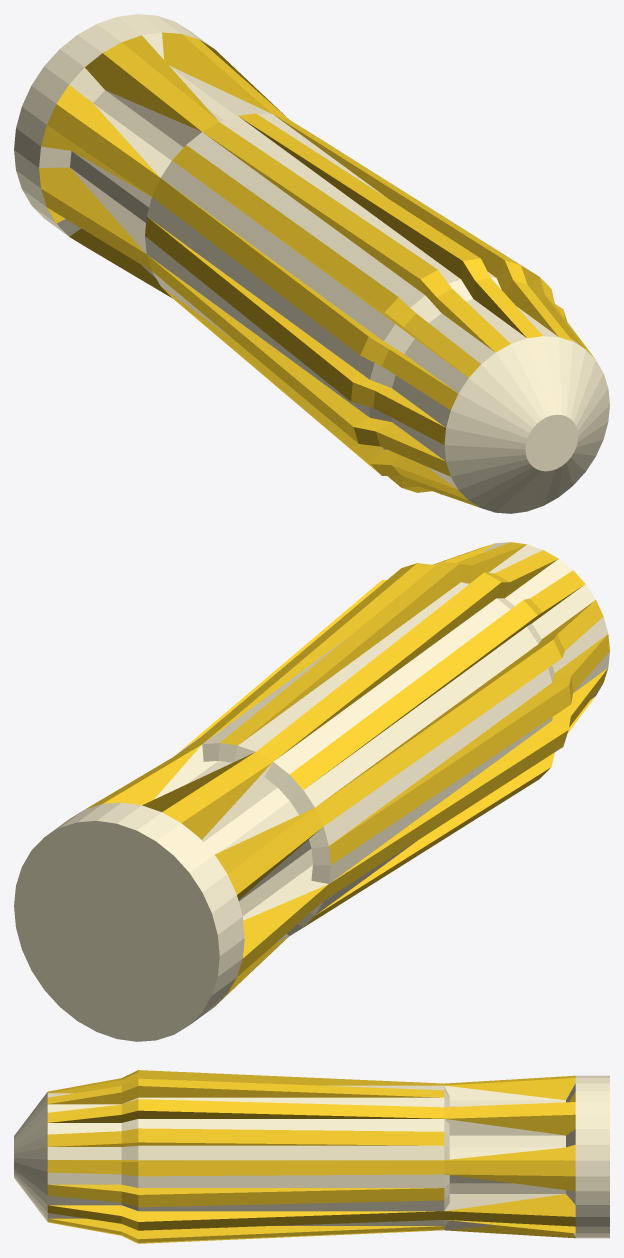
The model's file is nozzle1.fbx.
3 renders of one model, top to bottom at view 1: azimuth 30°, elevation 25°; view 2: azimuth 150°, elevation 25°; view 3: azimuth 270°, elevation 25°, orthographic. The views are drawn at different scales.
Visible parts, largest first — view 1: Cylinder; view 2: Cylinder; view 3: Cylinder.
Boxes of the visible parts, box(x1,y1,x2,y2) form: Cylinder: box(14, 14, 609, 513); Cylinder: box(14, 542, 609, 1041); Cylinder: box(14, 1070, 609, 1243).
Bounding box in the file's own units: 128 × 128 × 438.
